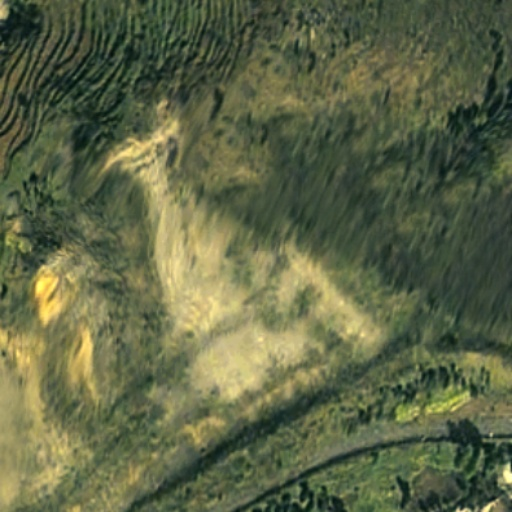landslide: (127, 123, 367, 383)
